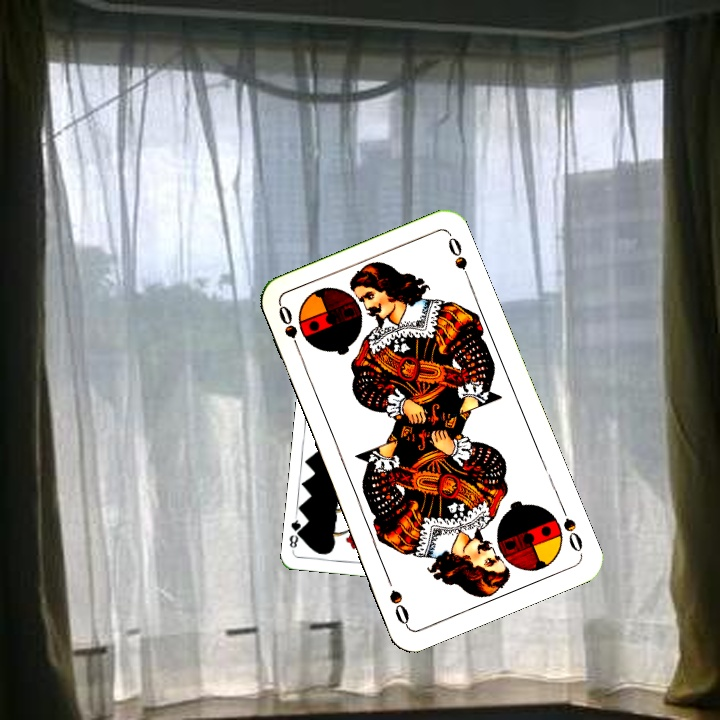SO: (274, 301, 305, 358), (556, 500, 586, 556)
